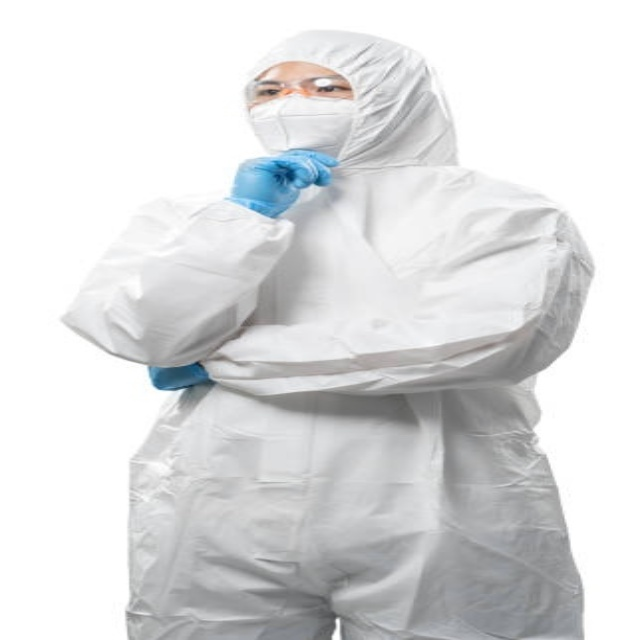Gafas: (248, 77, 354, 103)
Guantes: (225, 145, 346, 220)
Mascara: (246, 96, 357, 157)
